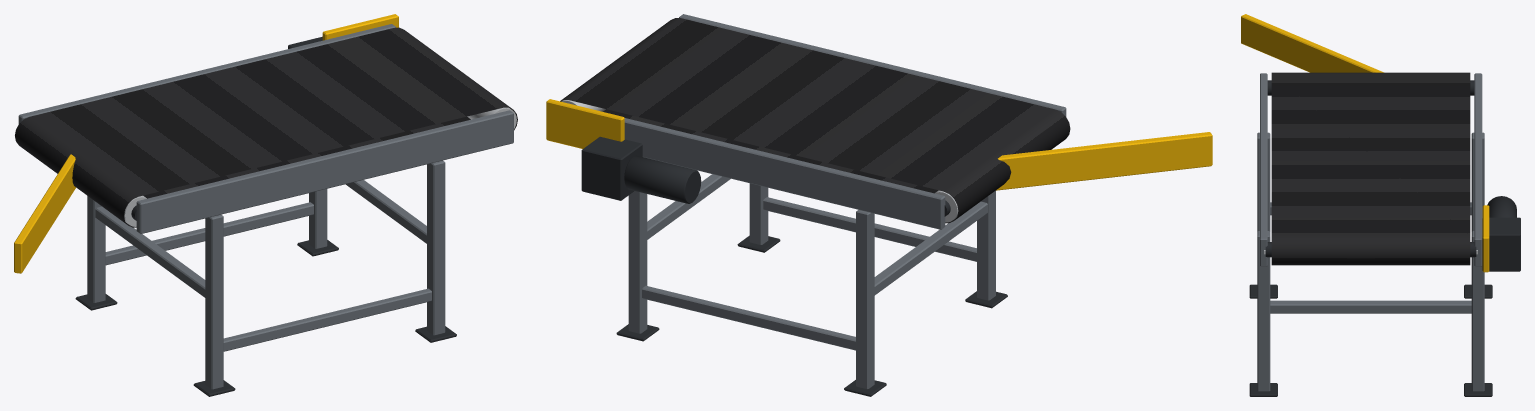
Rendered from spur_conveyor.glb.
The picture shows the model from 3 angles, left to right: view 1: azimuth 30°, elevation 25°; view 2: azimuth 150°, elevation 25°; view 3: azimuth 270°, elevation 25°; orthographic projection. The views are drawn at different scales.
Parts seen in each view (by area): view 1: Belt, Spur_Static; view 2: Spur_Static, Belt; view 3: Belt, Spur_Static.
Boxes of the visible parts, x1=… form: Belt: x1=15, y1=27, x2=517, y2=227; Spur_Static: x1=14, y1=14, x2=513, y2=396; Spur_Static: x1=546, y1=14, x2=1212, y2=396; Belt: x1=560, y1=18, x2=1070, y2=223; Belt: x1=1271, y1=72, x2=1470, y2=265; Spur_Static: x1=1241, y1=14, x2=1520, y2=396.
Size of the model in its own units: 2.1 by 0.815 by 1.08.
5 materials, 1 textured.
